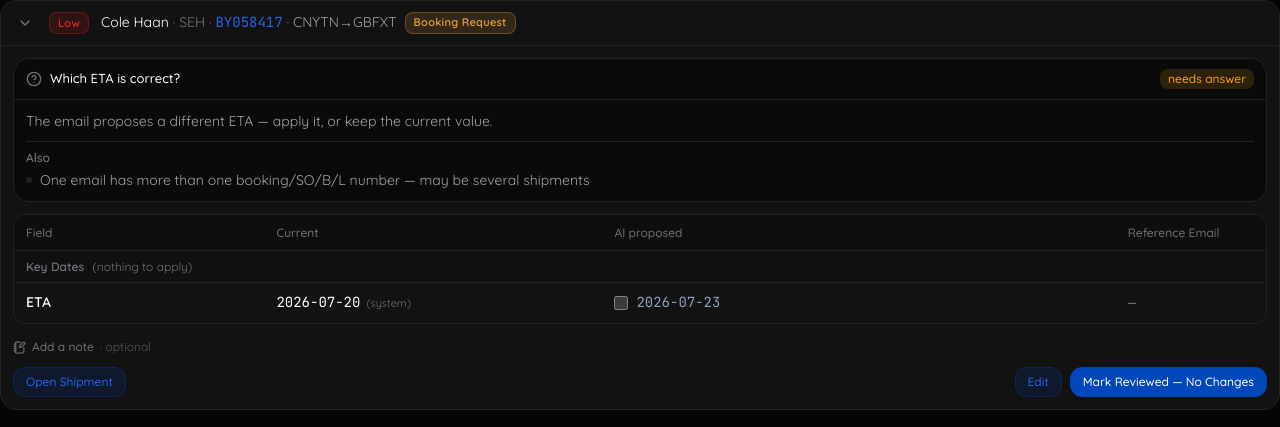
conflict table — read-only by default, Edit to change values › a typed value can always be taken back › one click puts every row back — after a tick, without touching the leg
Click the checkbox with test id "conflict-take". click: (621, 302)
box: [614,296,628,310]
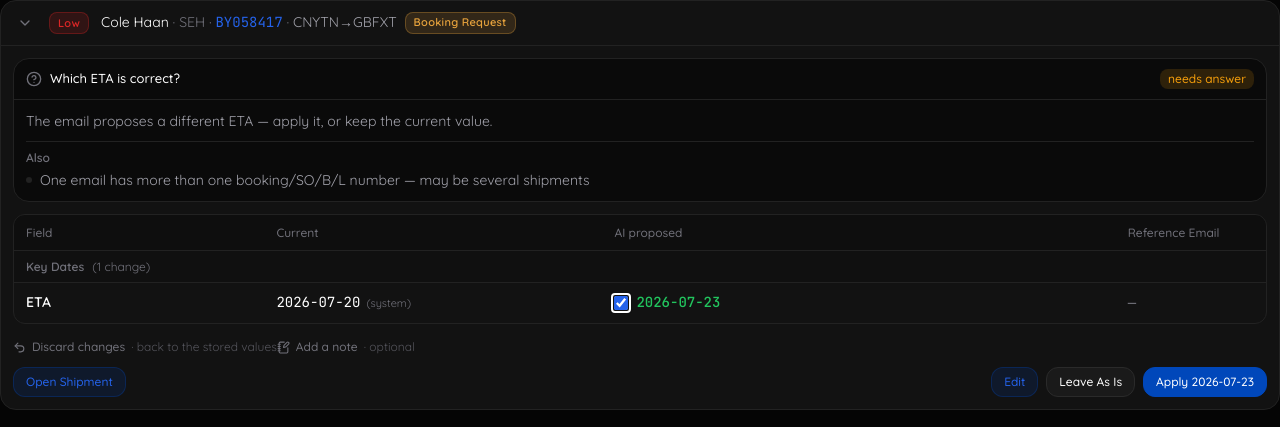
Expected: the button "Apply 2026-07-23" is shown, [1143,367,1267,397]
Click the button with test id "discard-edits". click: (145, 347)
box: [13,339,277,355]
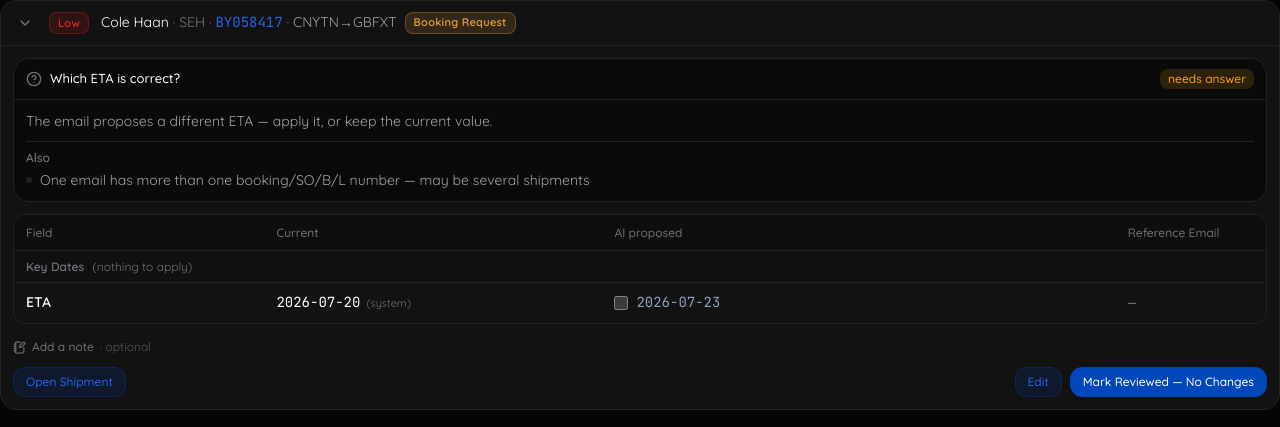
Expected: the checkbox with test id "conflict-take" is not checked, [614,296,628,310]
Expected: the element with test id "review-decision-grid" shows "nothing to apply", [97,258,188,274]
